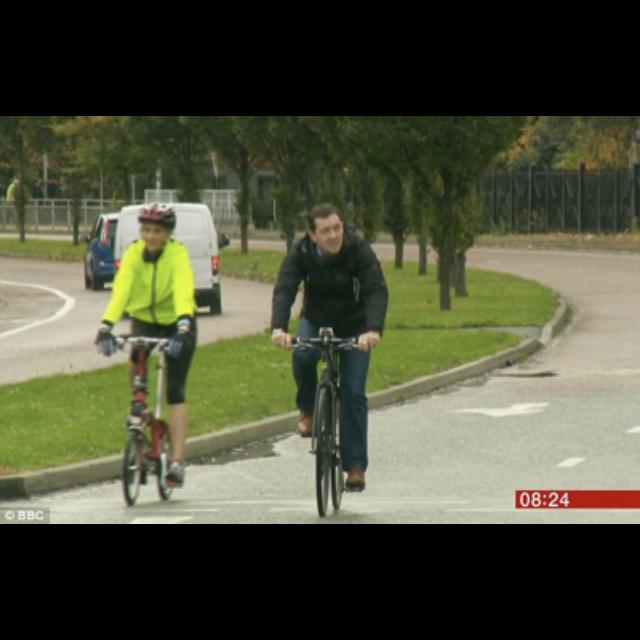Without Helmet: (300, 199, 352, 257)
